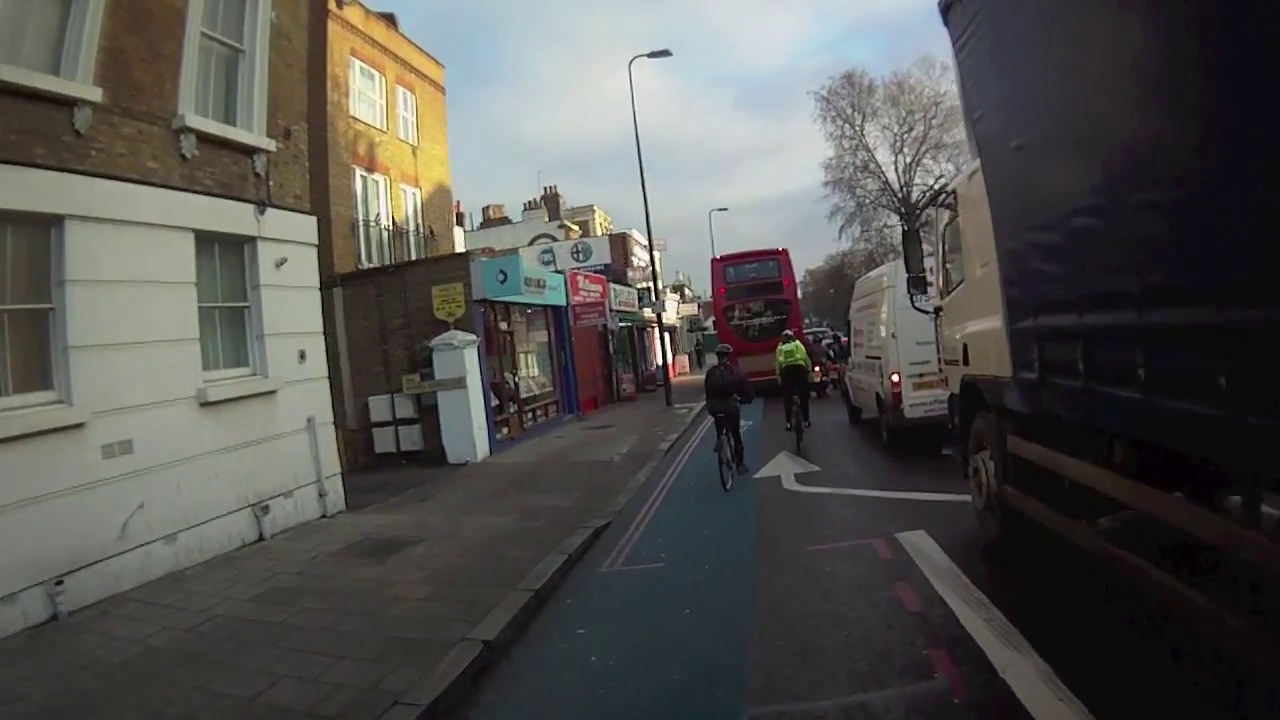cyclist_back: (699, 344, 757, 486), (776, 323, 824, 457)
